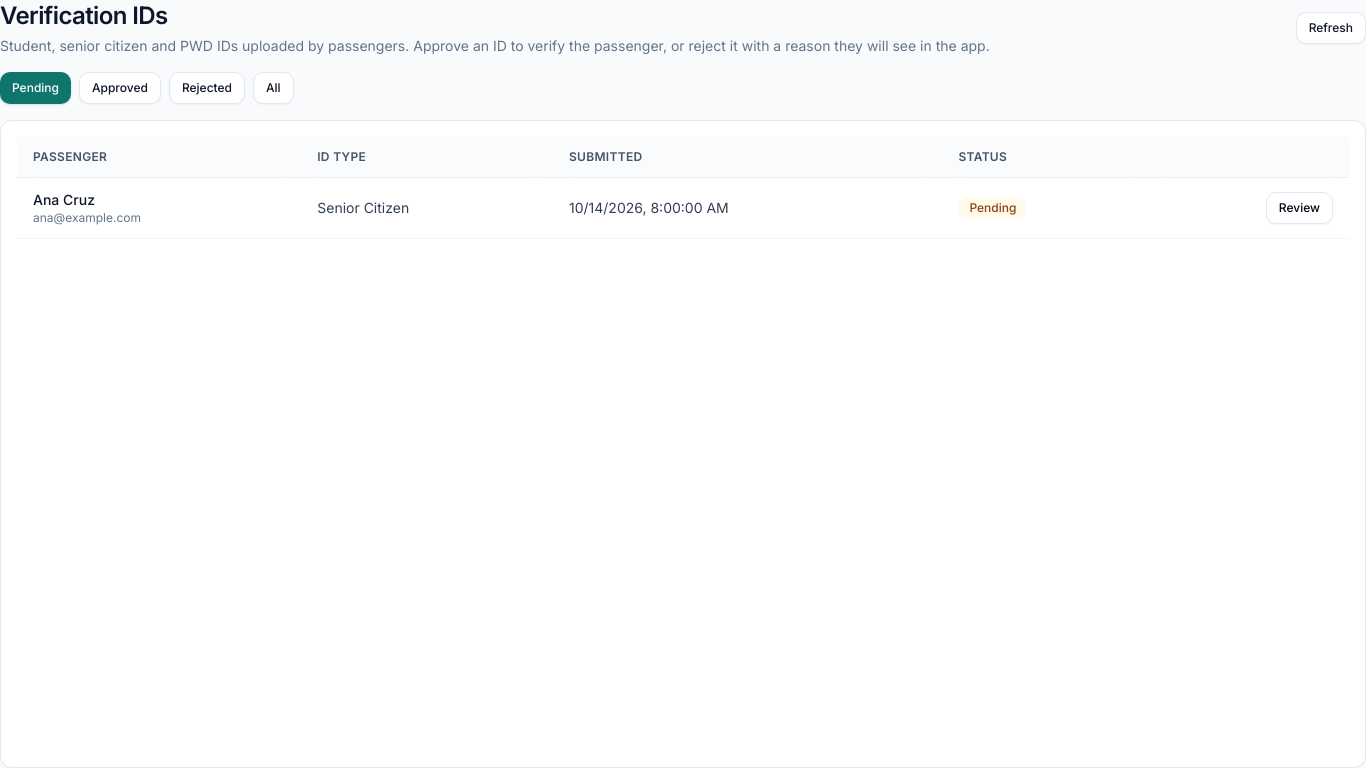
Test case: VerificationIdsPage › shows the server's error when a decision fails
Click the button "Review": point(1299, 208) [1266, 192, 1333, 224]
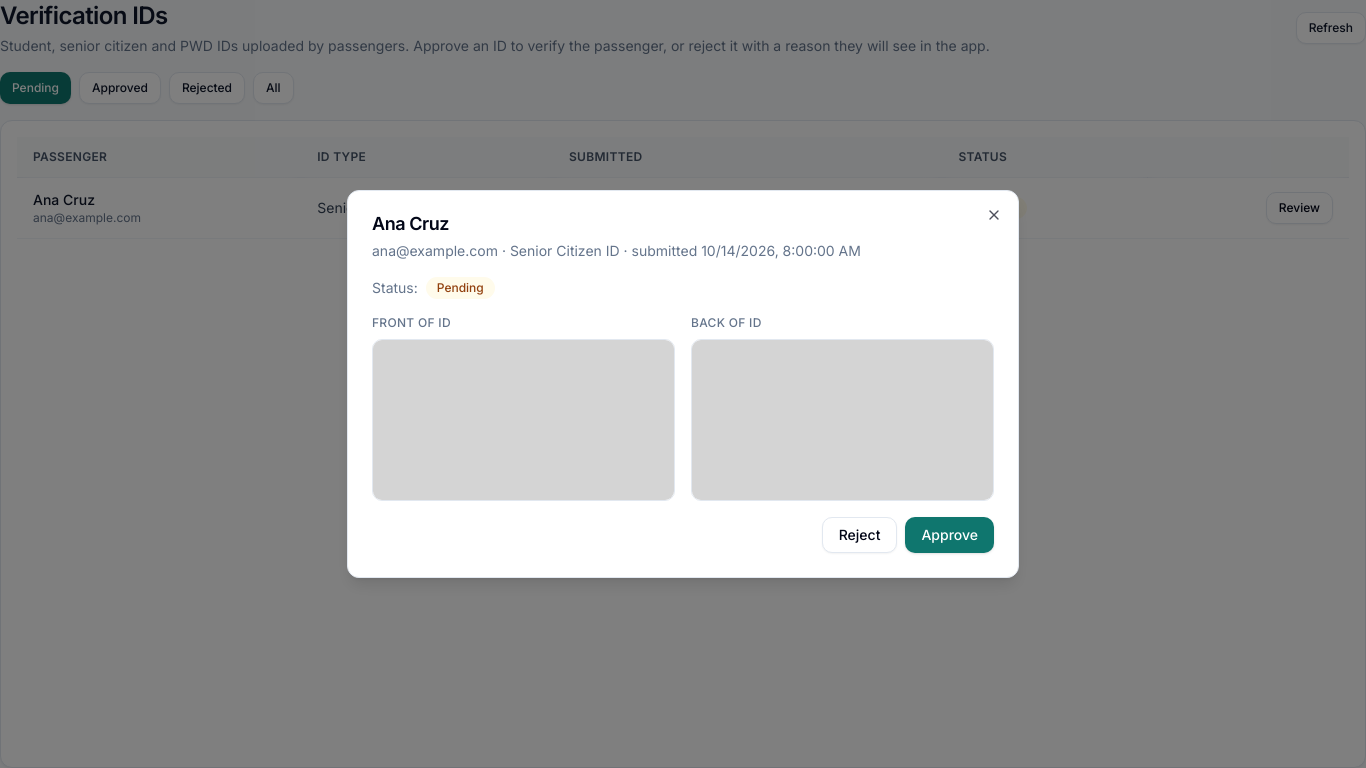
Click the button "Approve": point(950, 535) [905, 517, 994, 553]
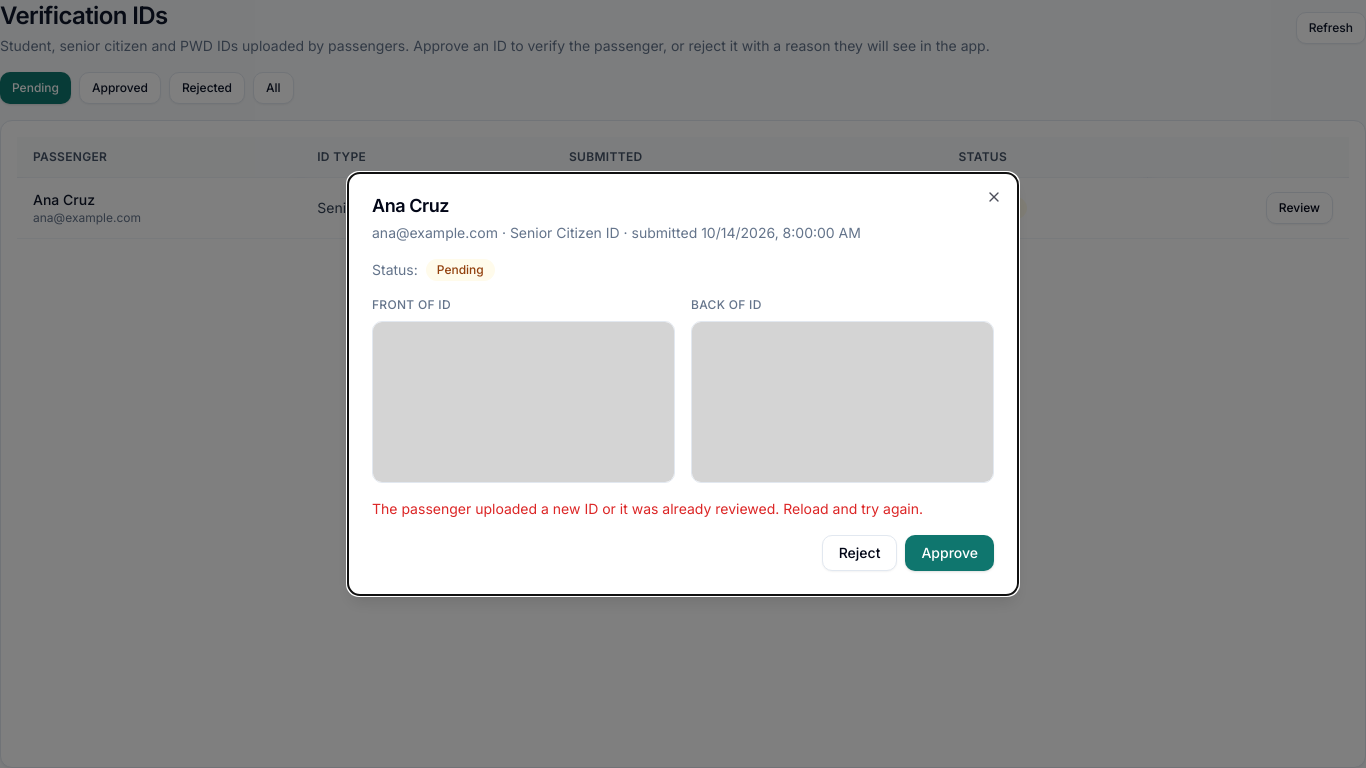
Check: the text "uploaded a new ID" is shown, box [372, 500, 923, 517]
